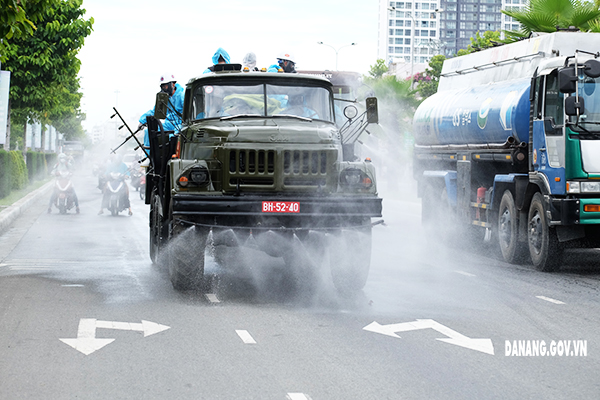plate: (258, 201, 299, 215)
